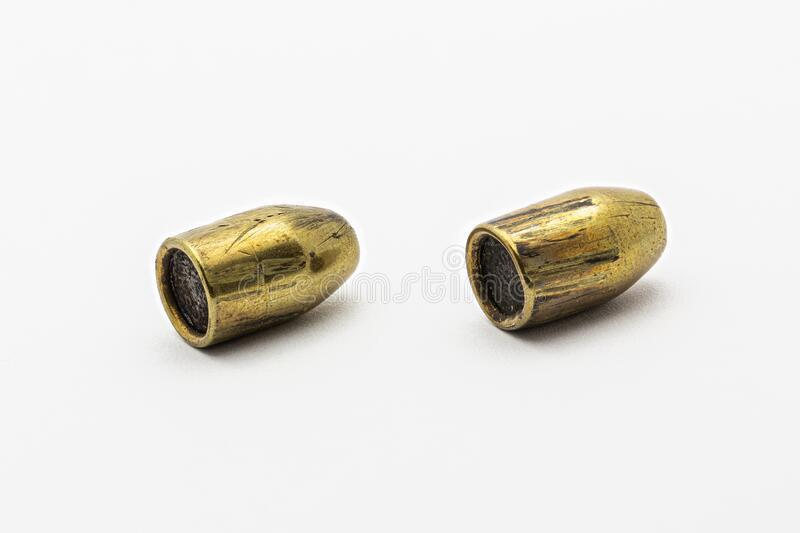Bullet: (146, 183, 372, 361), (452, 174, 670, 344)
